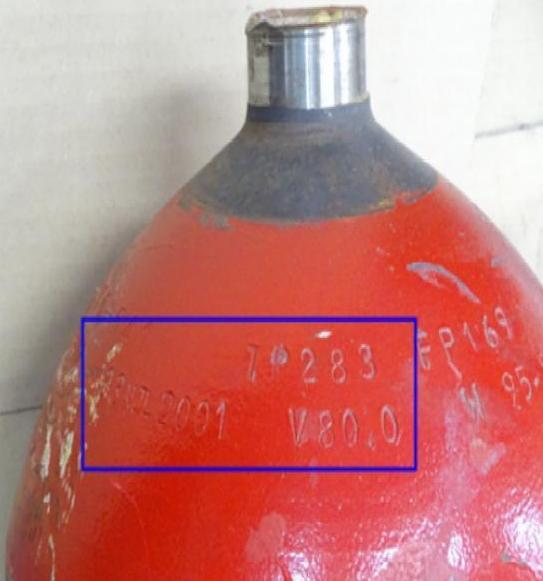cylinder: (1, 0, 543, 581)
